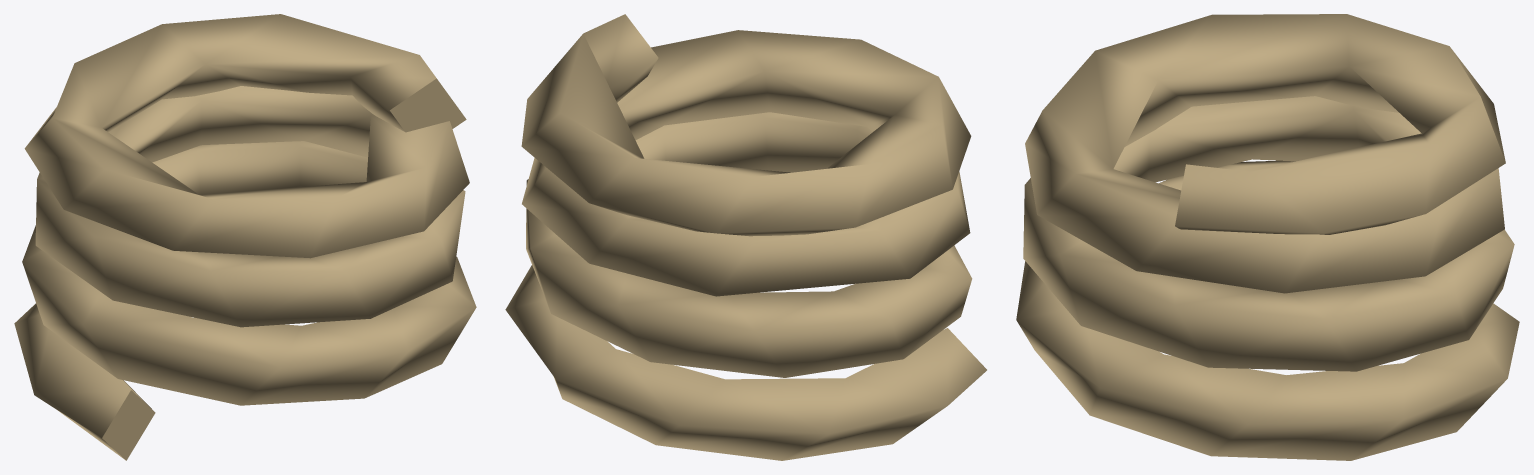
The model's file is bridge_rope_01.fbx.
3 views of the same model, side by side, from view 1: azimuth 30°, elevation 25°; view 2: azimuth 150°, elevation 25°; view 3: azimuth 270°, elevation 25° (orthographic). The views are drawn at different scales.
Visible parts, largest first — view 1: bridge_rope_01; view 2: bridge_rope_01; view 3: bridge_rope_01.
Boxes of the visible parts, <box> form: bridge_rope_01: <box>14,14,476,460</box>; bridge_rope_01: <box>505,14,986,460</box>; bridge_rope_01: <box>1016,14,1519,460</box>.
Size of the model in its own units: 33.19 by 23.85 by 32.06.
